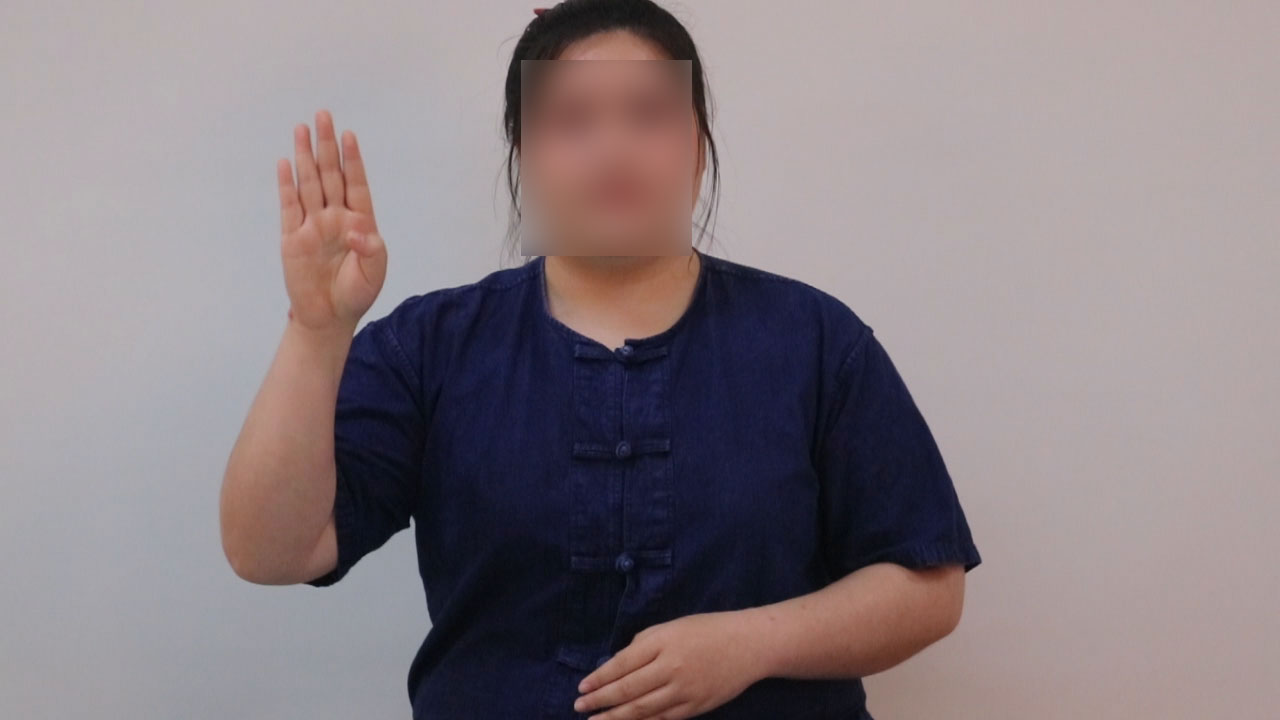bor: (249, 91, 402, 360)
